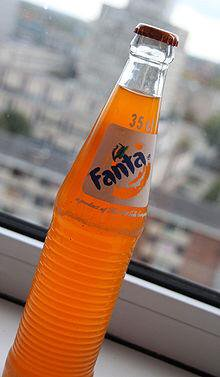fanta: (4, 32, 175, 373)
